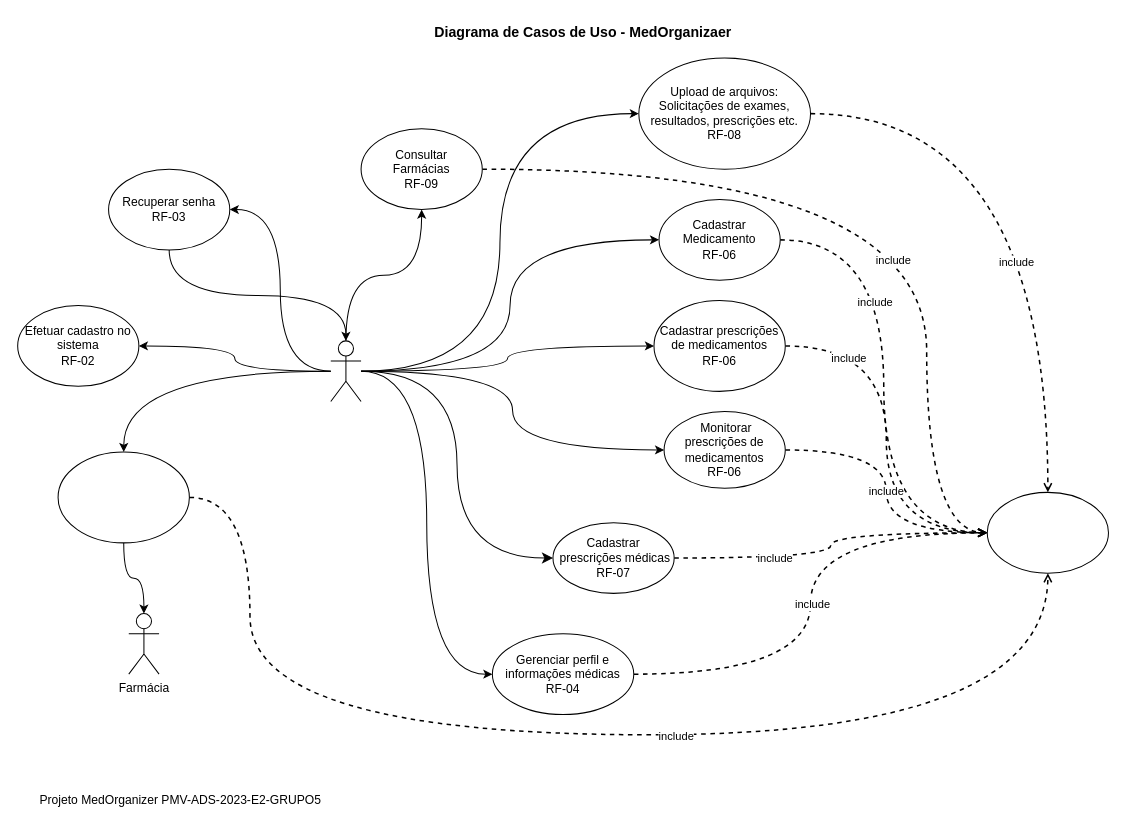
Image size: 1126x832. Some labels were removed from this diagram. Each missing label, with the centre of its shape:
"Enviar Receitas médicas para Farmácias RF-10" belongs at point 123,497.
"Fazer login RF-01" belongs at point 1047,532.
"Usuário" belongs at point 345,370.
